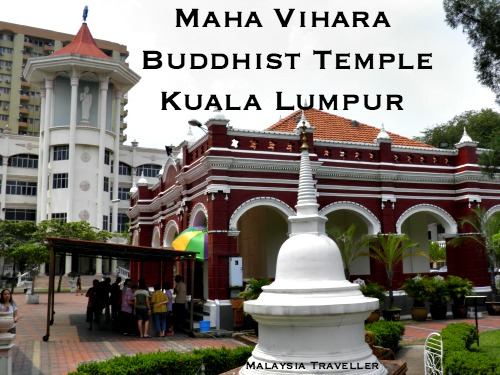Buddhist Temple: (38, 26, 480, 300)
